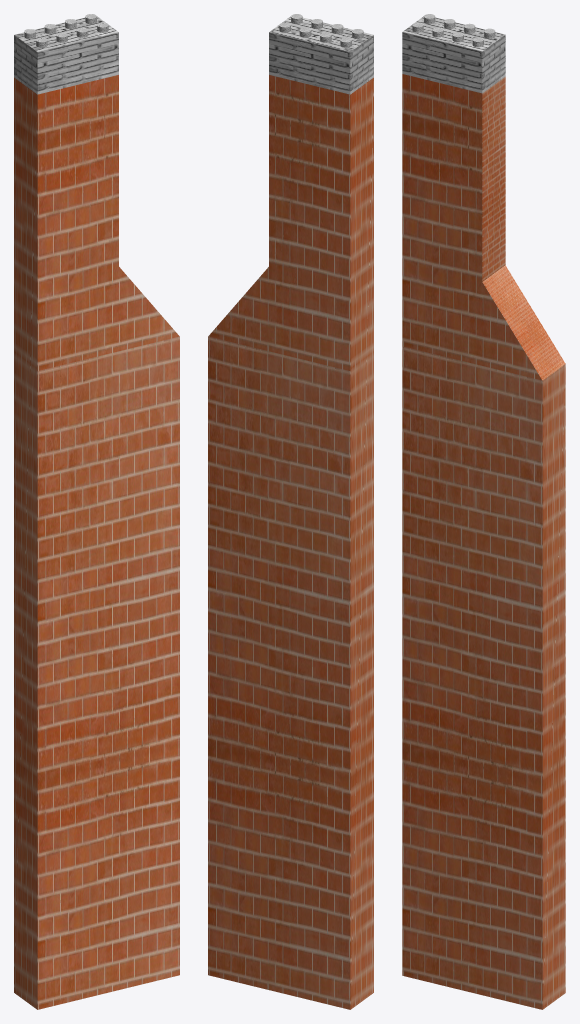
Rendered from Chimenea.obj.
3 renders of one model, left to right at view 1: azimuth 30°, elevation 25°; view 2: azimuth 150°, elevation 25°; view 3: azimuth 330°, elevation 25°, orthographic.
Parts seen in each view (by area): view 1: Box003, Box004; view 2: Box003, Box004; view 3: Box003, Box004.
Boxes of the visible parts, x1,y1,x2,y2 form: Box003: [14, 75, 179, 1009]; Box004: [14, 16, 118, 94]; Box003: [208, 75, 373, 1009]; Box004: [269, 16, 373, 94]; Box003: [402, 74, 565, 1009]; Box004: [402, 16, 505, 93].
Bounding box in the file's own units: 7 × 45.25 × 2.
2 materials, 2 textured.
